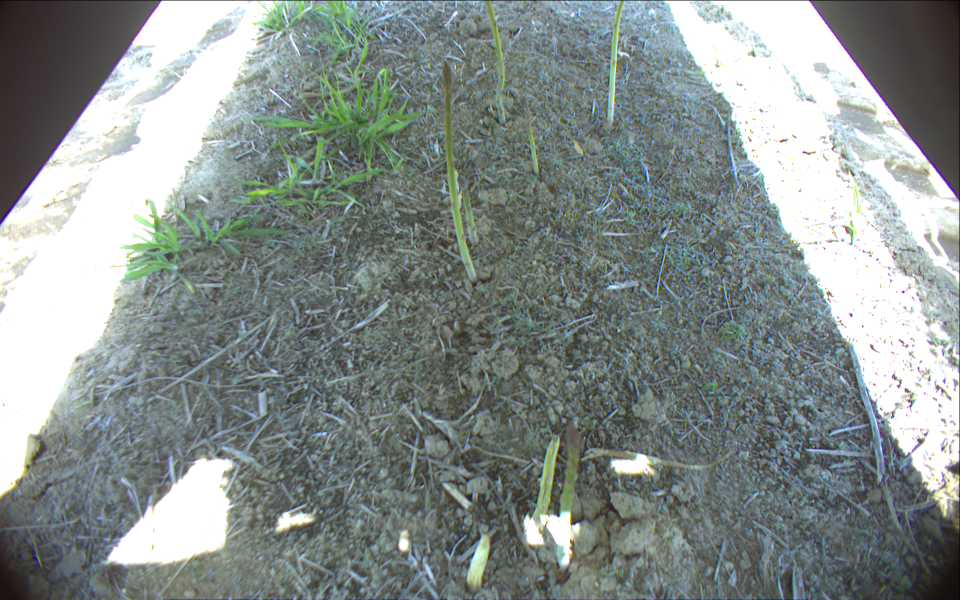aspa: (442, 60, 479, 284), (553, 422, 583, 563), (526, 432, 560, 537), (481, 1, 508, 125), (586, 447, 737, 469), (608, 1, 625, 125), (523, 100, 544, 179), (465, 533, 490, 592), (458, 173, 477, 245)
